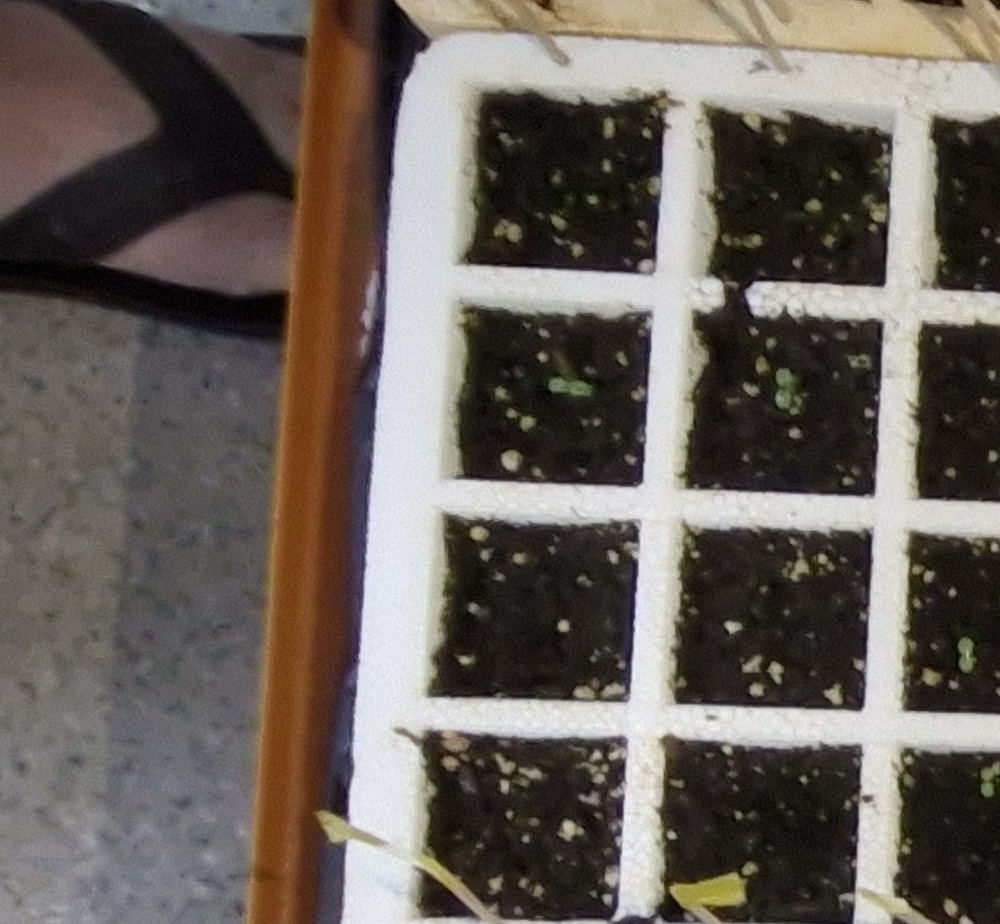Folha: (775, 389, 792, 407), (550, 377, 568, 393), (959, 638, 975, 656), (777, 368, 792, 386), (958, 655, 973, 673), (569, 380, 588, 394), (980, 782, 994, 797), (981, 767, 994, 780)
Germinacao: (546, 376, 590, 395), (958, 637, 978, 674), (775, 367, 792, 408), (980, 767, 995, 797)
